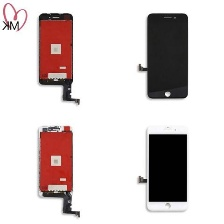phone: (144, 121, 190, 213), (145, 9, 190, 101), (34, 11, 77, 89), (35, 122, 75, 201)
